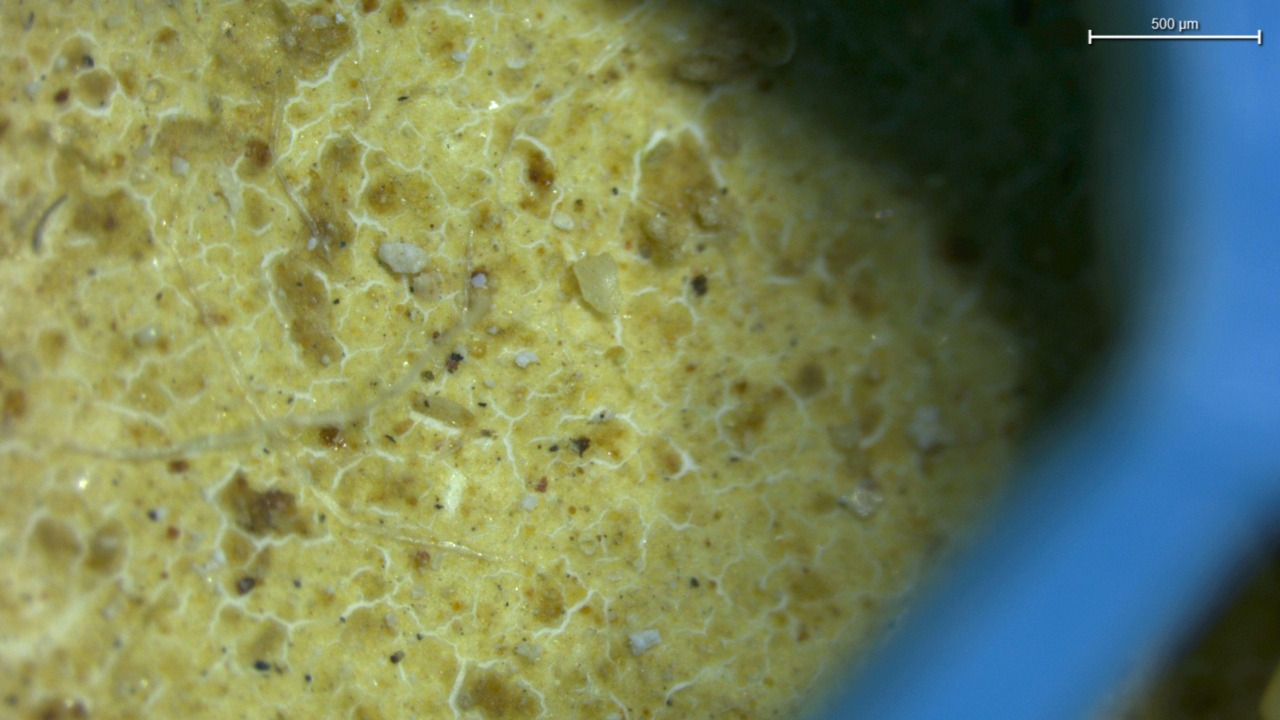microplastic_fragment: (573, 254, 619, 316), (377, 242, 429, 274), (628, 629, 662, 655)
